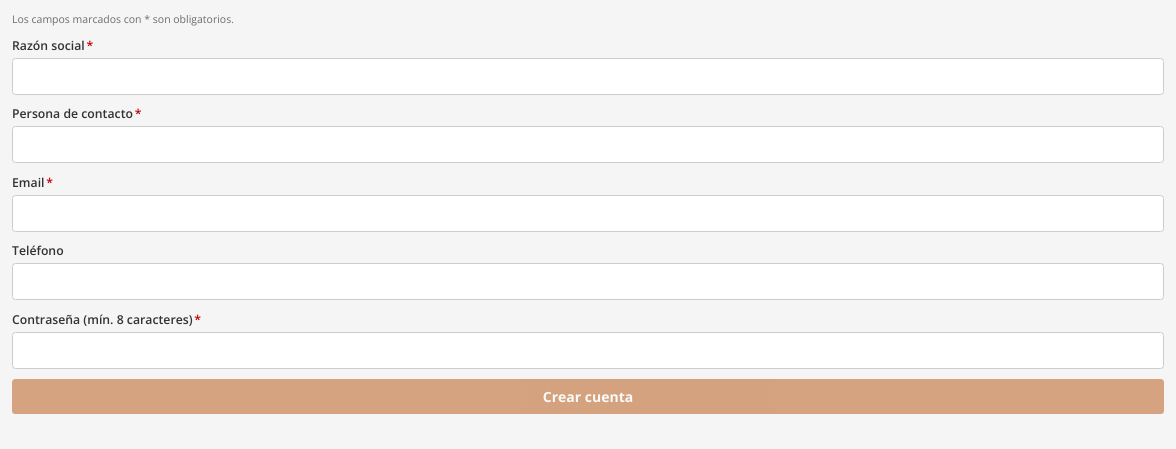
Test: RegisterForm › keeps the submit button disabled until the required fields are valid
The width and height of the screenshot is (1176, 449).
Expected: the button "Crear cuenta" is disabled, [12, 379, 1164, 414]
Type "Empresa Test" into the field labelled "Razón social*" at [588, 76], box [12, 58, 1164, 94]
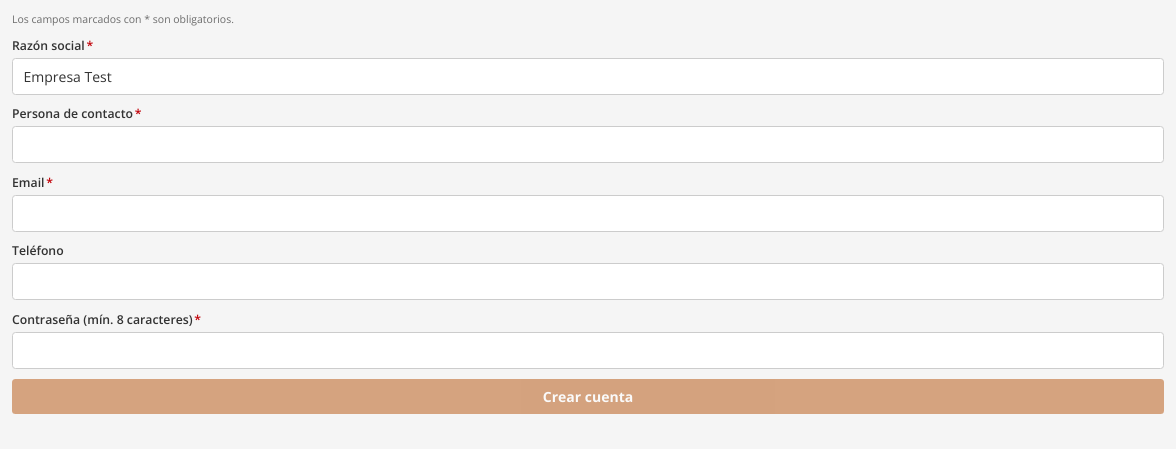
Type "Juan Pérez" into the field labelled "Persona de contacto*" at [588, 144], box [12, 126, 1164, 163]
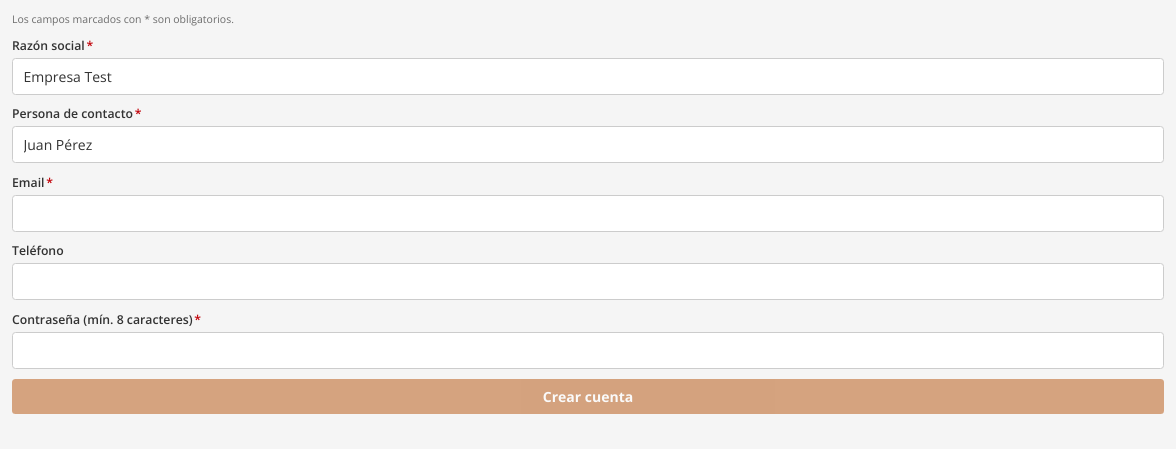
Type "password123" into the password field labelled "Contraseña (mín. 8 caracteres)*" at [588, 350], box [12, 332, 1164, 368]
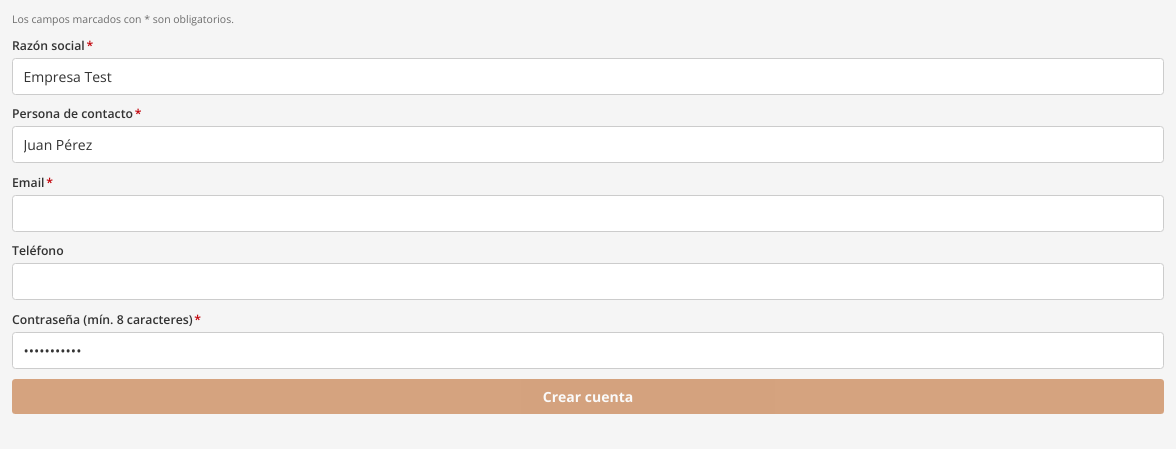
Expected: the button "Crear cuenta" is disabled, [12, 379, 1164, 414]
// Email con formato inválido: sigue sin habilitarse y se avisa.
Type "no-es-un-email" into the field labelled "Email*" at [588, 213], box [12, 194, 1164, 232]
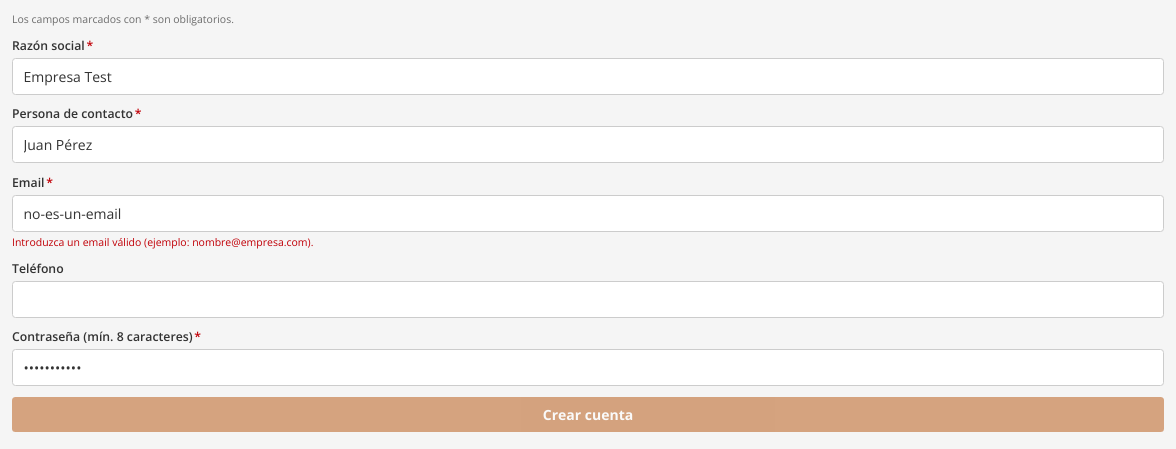
Expected: the button "Crear cuenta" is disabled, [12, 396, 1164, 432]
Expected: the message shows "Introduzca un email válido", [12, 235, 313, 249]
Replace the text in the field labelled "Email*" with "test@example.com" at [588, 213], box [12, 194, 1164, 232]
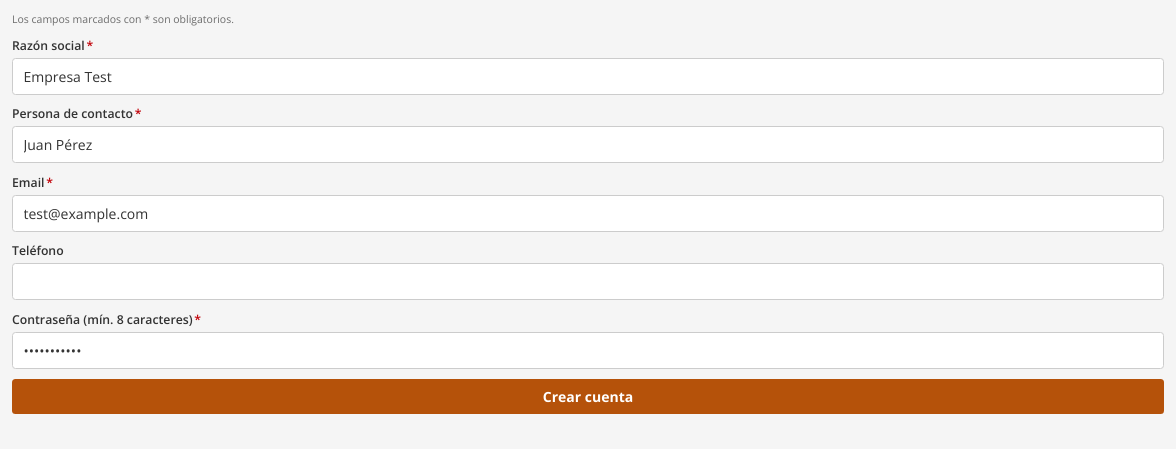
Expected: the button "Crear cuenta" is enabled, [12, 379, 1164, 414]
